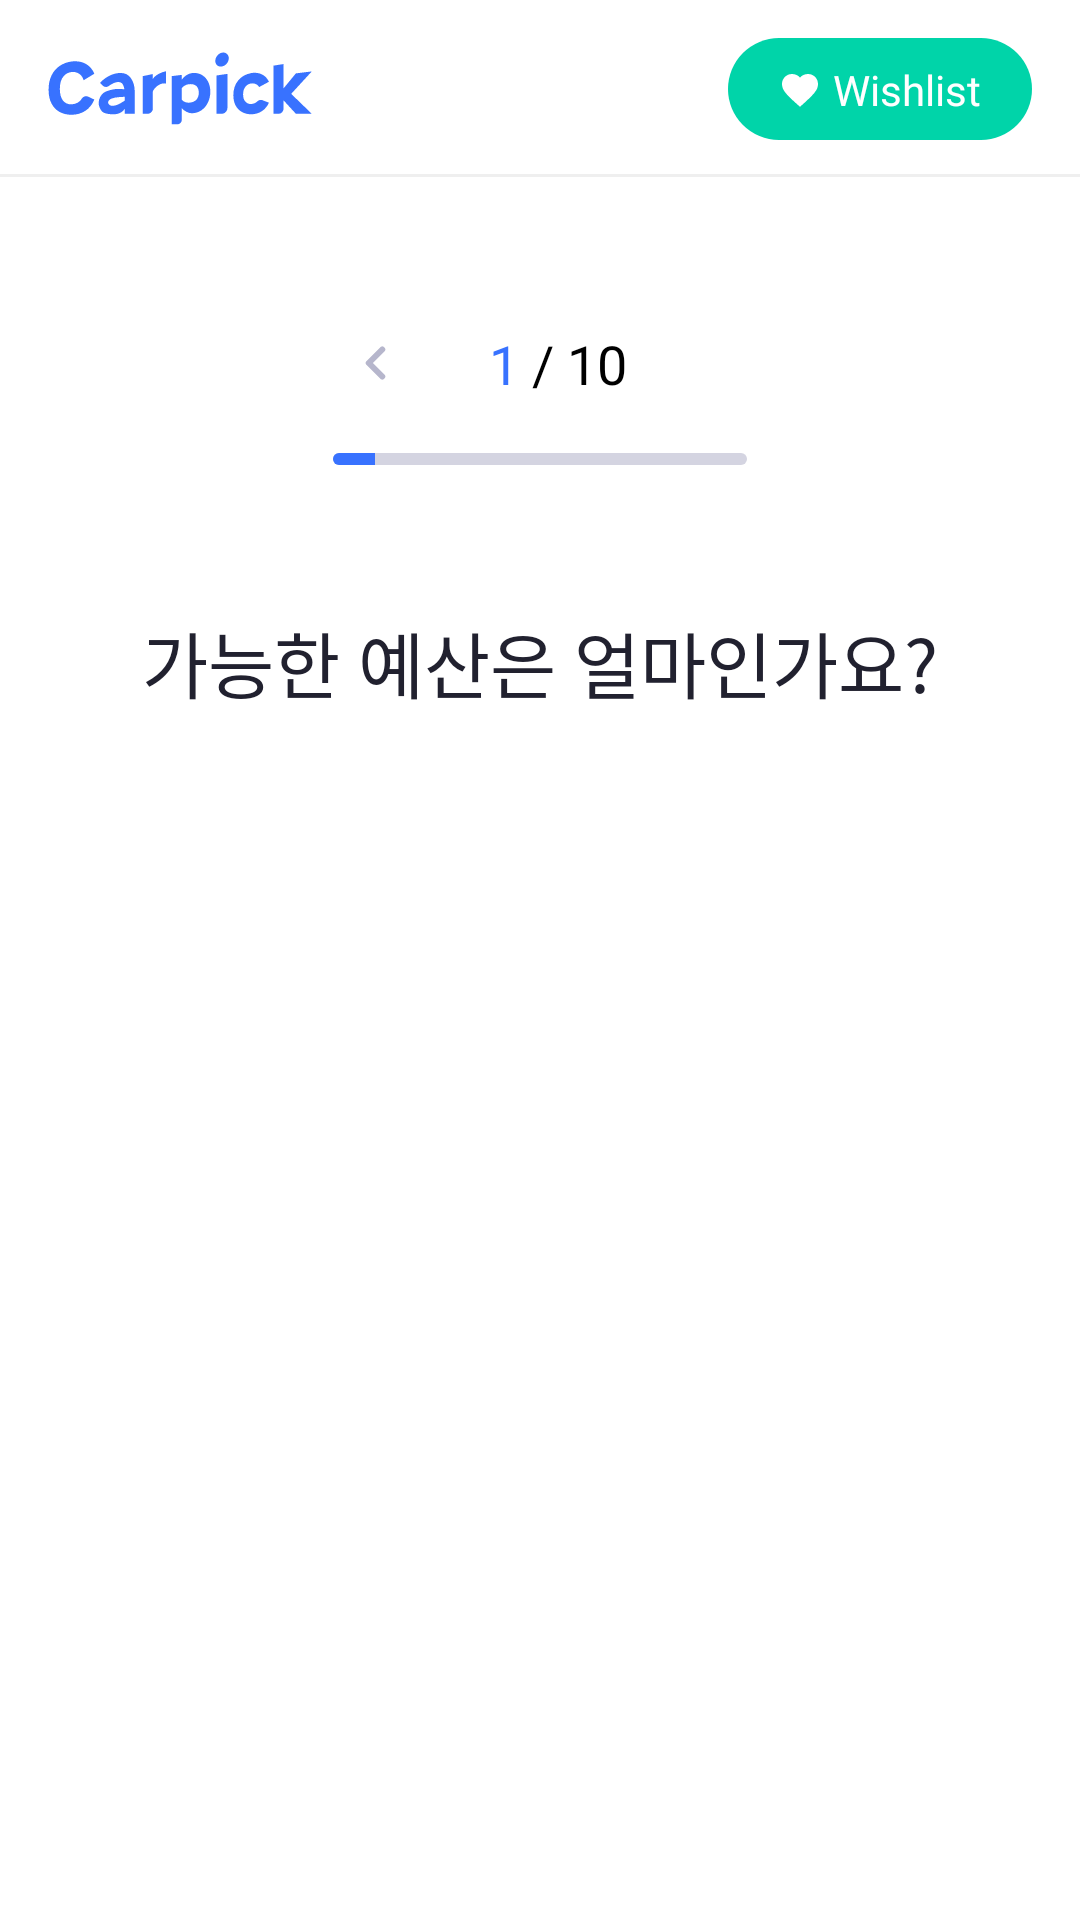

Where to tap for icons on this 1080x1920 app screen, as [x,y]:
heart: [800,90]
prev off: [376,363]
